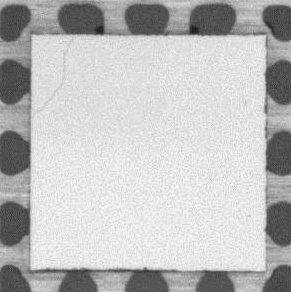DIE_CRACK: (35, 37, 74, 113)
